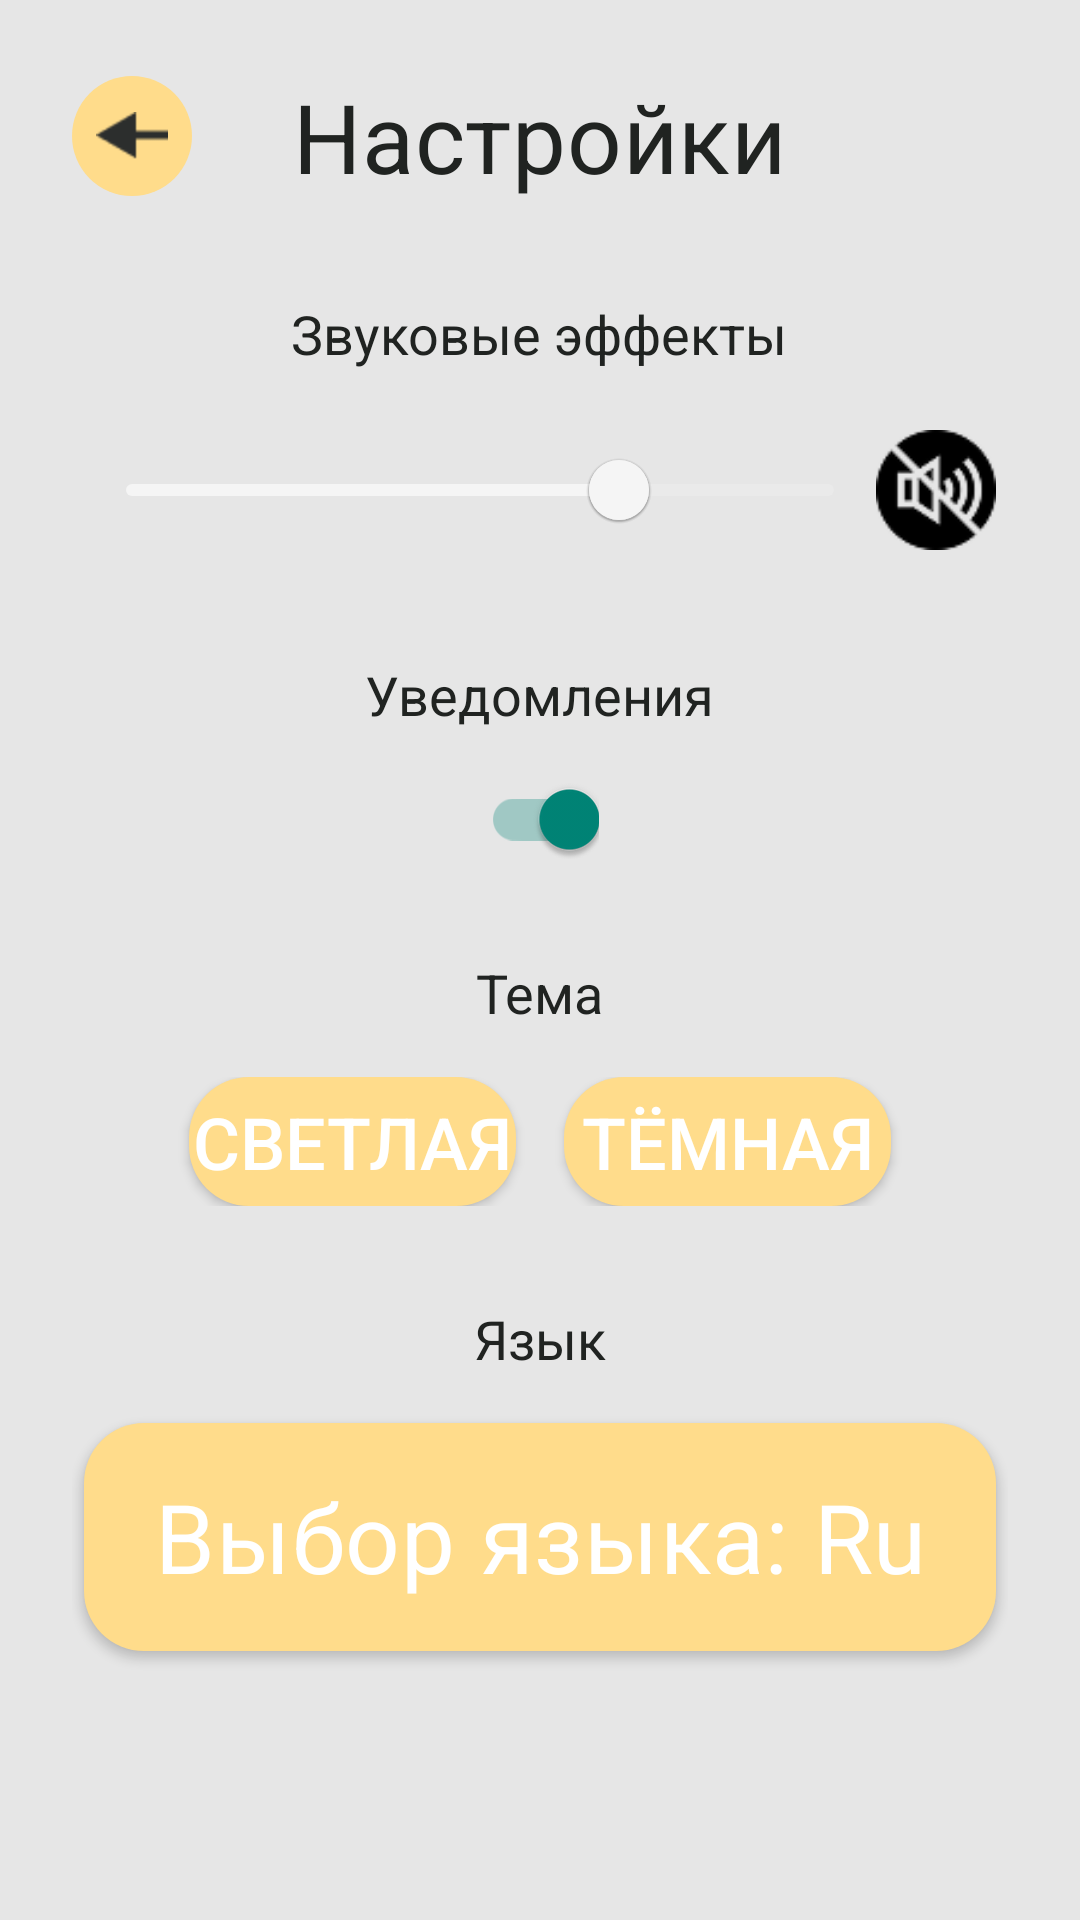

Icons on this 1080px x 1920px Android screen, each with the point to tap as point (x, y):
arrow: point (132, 136)
mute: point (936, 490)
